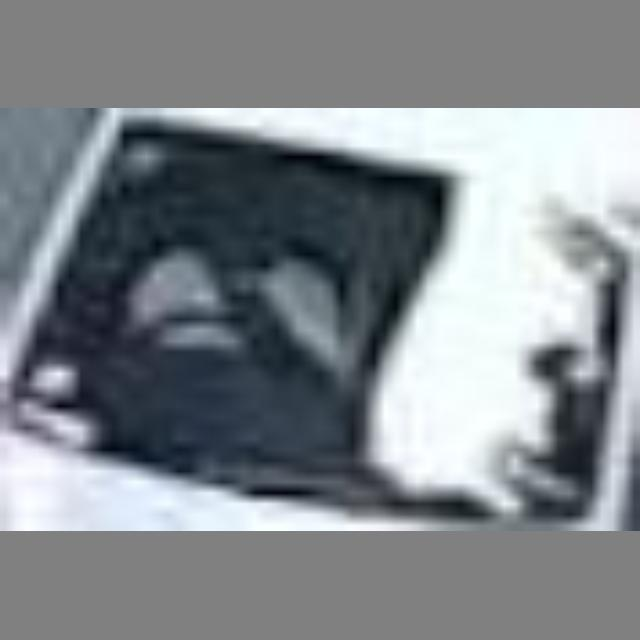pakai: (130, 238, 325, 401)
